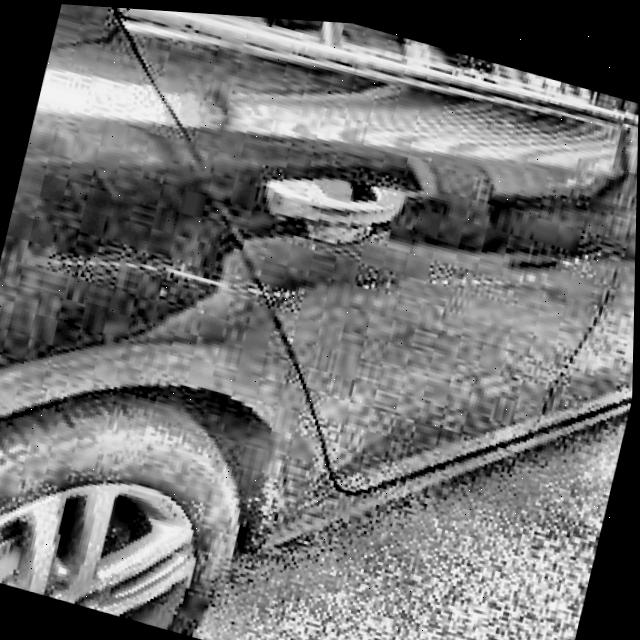door_scratch: (38, 218, 252, 325), (404, 245, 514, 312), (551, 226, 625, 282), (245, 265, 310, 315)
